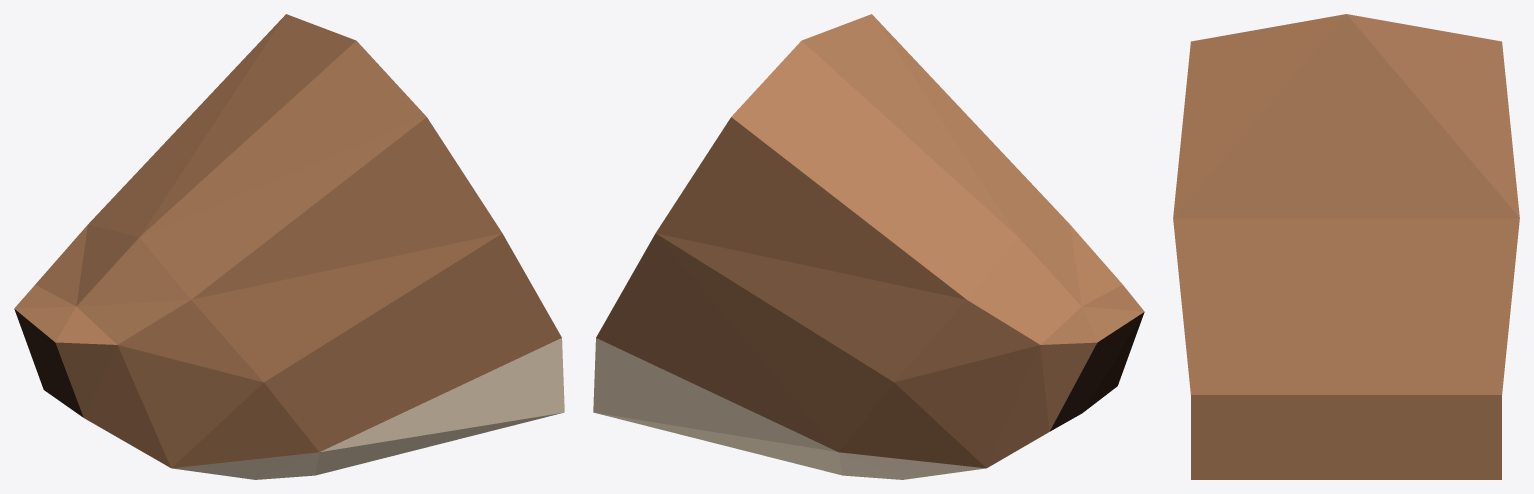
The model's file is snout.fbx.
3 renders of one model, left to right at view 1: azimuth 30°, elevation 25°; view 2: azimuth 150°, elevation 25°; view 3: azimuth 270°, elevation 25°, orthographic. The views are drawn at different scales.
Parts seen in each view (by area): view 1: Cube; view 2: Cube; view 3: Cube.
Part boxes in pixels (x1,y1,x2,y2): Cube: (14,14,564,479); Cube: (593,14,1144,479); Cube: (1173,14,1519,479).
Bounding box in the file's own units: 255 × 205 × 150.
